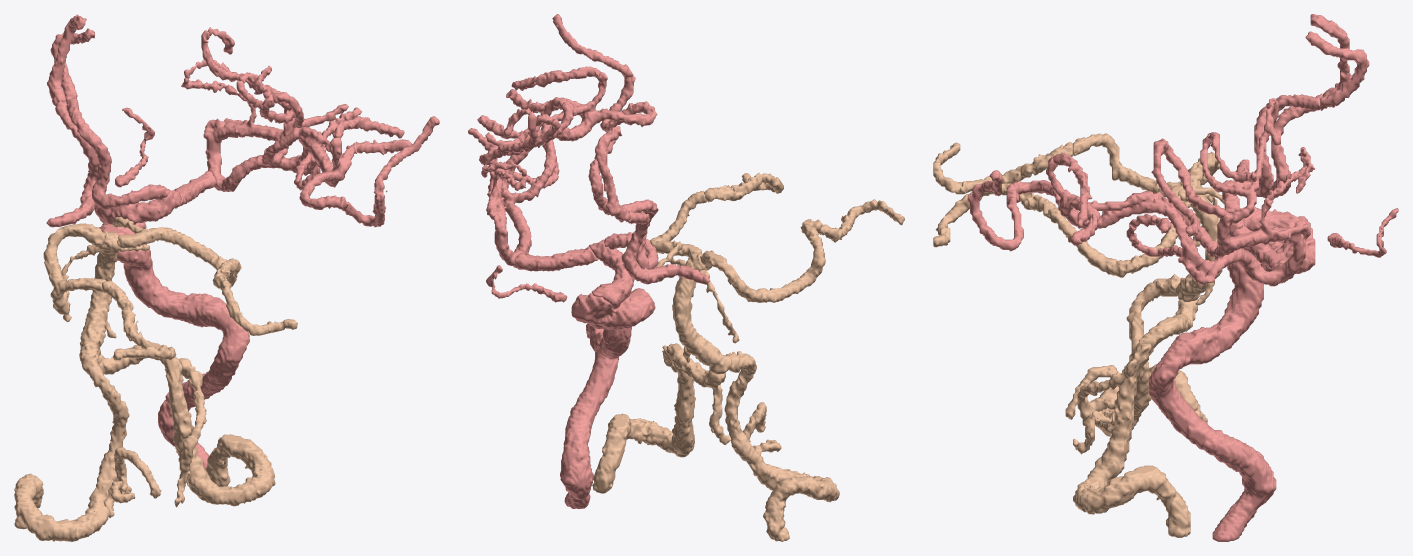
The model's file is case.glb.
3 views of the same model, side by side, from view 1: azimuth 30°, elevation 25°; view 2: azimuth 150°, elevation 25°; view 3: azimuth 270°, elevation 25° (orthographic). The views are drawn at different scales.
Visible parts, largest first — view 1: r_m2, r_ica_c1_c5, r_va, l_va, r_m3, r_a1a2, l_p1p2, ba, r_p1p2, l_p3p4, r_pica, l_a1a2 (+7 smaller); view 2: r_m2, r_ica_c1_c5, r_va, r_m3, l_va, ba, l_p1p2, l_a1a2, r_ica_c6_c7, r_a1a2, r_m1, l_a3 (+7 smaller); view 3: r_m2, r_ica_c1_c5, r_va, r_m3, l_va, l_p1p2, r_p1p2, l_p3p4, r_a1a2, r_pica, r_a3, r_p3p4 (+7 smaller).
Part boxes in pixels (box(x1,y1,x2,y2)): r_m2: box(181, 30, 355, 209); r_ica_c1_c5: box(91, 221, 249, 469); r_va: box(97, 343, 275, 506); l_va: box(14, 345, 129, 541); r_m3: box(184, 27, 439, 227); r_a1a2: box(66, 98, 169, 209); l_p1p2: box(43, 223, 106, 314); ba: box(80, 231, 120, 355); r_p1p2: box(117, 227, 241, 286); l_p3p4: box(102, 280, 176, 360); r_pica: box(174, 358, 206, 507); l_a1a2: box(46, 100, 99, 227); r_m2: box(479, 72, 657, 268); r_ica_c1_c5: box(560, 288, 655, 508); r_va: box(592, 343, 725, 493); r_m3: box(468, 14, 636, 177); l_va: box(724, 351, 839, 541); ba: box(672, 252, 731, 374); l_p1p2: box(700, 224, 825, 302); l_a1a2: box(621, 210, 709, 284); r_ica_c6_c7: box(589, 239, 634, 308); r_a1a2: box(604, 199, 658, 269); r_m1: box(515, 246, 598, 271); l_a3: box(595, 126, 630, 222); r_m2: box(1006, 98, 1312, 286); r_ica_c1_c5: box(1149, 227, 1315, 541); r_va: box(1073, 299, 1197, 537); r_m3: box(967, 99, 1315, 251); l_va: box(1095, 274, 1207, 436); l_p1p2: box(1073, 133, 1219, 197); r_p1p2: box(1046, 185, 1185, 277); l_p3p4: box(933, 142, 1072, 194); r_a1a2: box(1222, 94, 1320, 212); r_pica: box(1073, 343, 1151, 454); r_a3: box(1305, 31, 1369, 110); r_p3p4: box(933, 183, 1055, 247).
Bounding box in the file's own units: 0.095 × 0.1094 × 0.0965.
